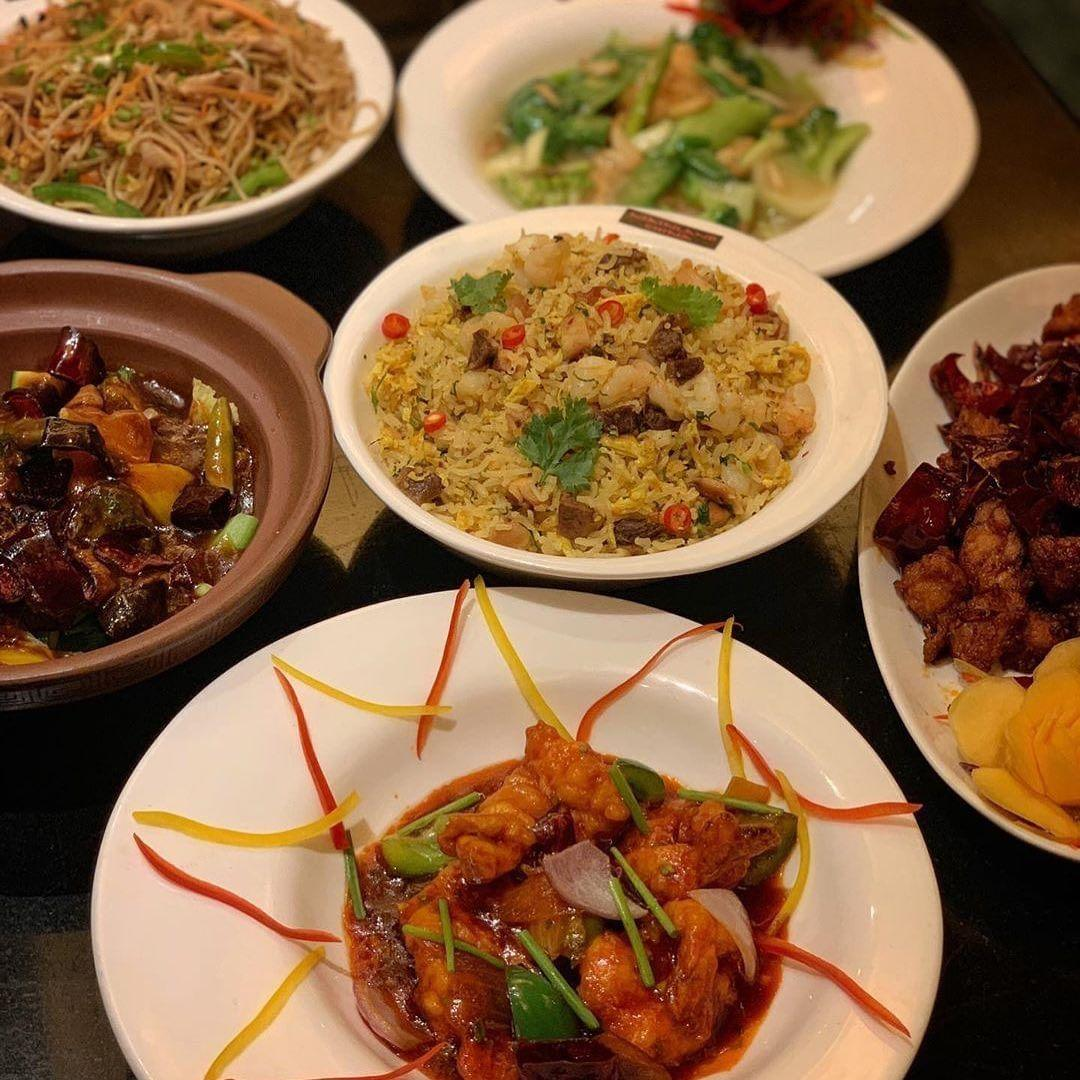Braised Crucian Carp: (91, 586, 928, 1070), (391, 0, 976, 279), (2, 257, 337, 701), (364, 230, 810, 555), (859, 260, 1074, 850), (0, 1, 387, 259)
